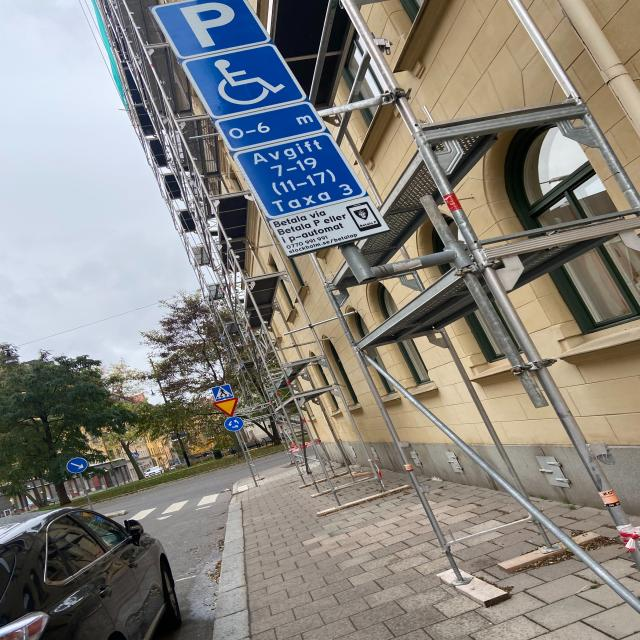psign: (148, 0, 269, 59)
